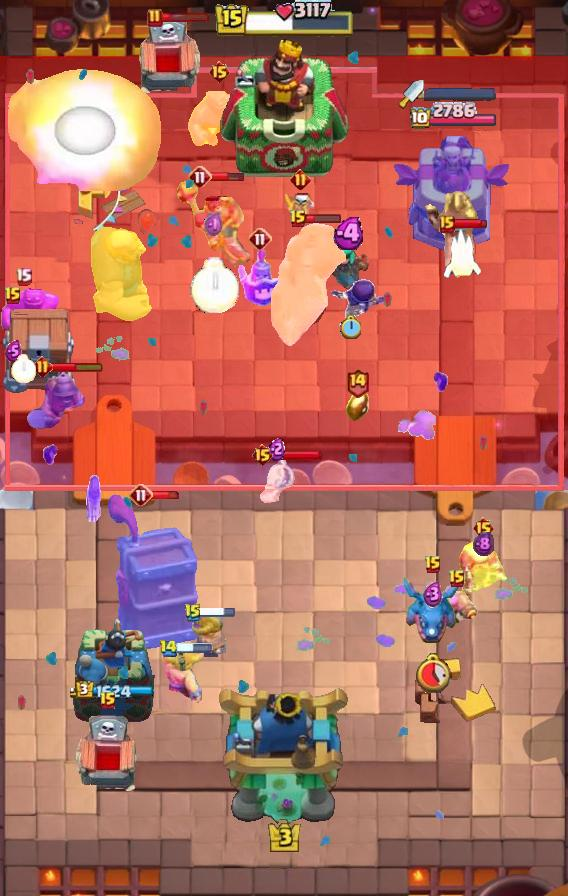balloon: (88, 222, 156, 324)
bandit: (25, 367, 89, 431)
bar: (391, 132, 515, 256)
bat: (440, 227, 482, 281), (255, 453, 297, 505)
bomb: (0, 309, 78, 395)
bomber: (344, 387, 370, 423)
bowler: (456, 530, 510, 600)
clock: (213, 0, 355, 40)
dart-goblin: (107, 493, 201, 653)
electro-spirit: (332, 218, 367, 251), (204, 210, 225, 238), (474, 531, 495, 557), (423, 580, 443, 607), (267, 437, 284, 461), (5, 340, 23, 362)
elixir: (190, 257, 239, 313), (413, 651, 453, 693), (12, 353, 37, 382), (339, 315, 360, 339)
elixir-golem-mid: (133, 16, 203, 102), (73, 714, 143, 800)
emote: (51, 361, 105, 373), (271, 449, 323, 461), (160, 12, 210, 23), (200, 606, 237, 619), (452, 218, 488, 230), (210, 171, 245, 183), (306, 213, 343, 224), (175, 643, 213, 653), (150, 490, 182, 500)
freeze: (174, 181, 254, 275), (419, 191, 481, 273)
goblin: (83, 475, 103, 525)
goblin-ball: (330, 276, 390, 332)
goblin-giant: (162, 647, 206, 703), (190, 610, 226, 657)
graveyard: (402, 574, 464, 646)
heal-spirit: (285, 188, 315, 220)
king-tower: (216, 684, 352, 826), (218, 37, 350, 181)
king-tower-bar: (424, 87, 496, 101)
princess: (238, 249, 282, 309)
queen-tower: (70, 616, 158, 731)
selected: (410, 101, 499, 130), (74, 680, 154, 700)
text: (346, 366, 371, 397), (188, 165, 212, 189), (248, 227, 272, 251), (129, 483, 153, 507), (209, 60, 232, 84), (251, 443, 274, 467), (473, 516, 496, 540), (289, 169, 311, 191), (32, 355, 53, 377), (159, 638, 178, 657), (289, 209, 307, 229), (4, 286, 22, 306), (424, 555, 442, 575), (448, 569, 466, 589), (184, 603, 202, 623), (99, 691, 117, 711), (16, 267, 33, 286), (147, 8, 163, 28), (439, 215, 455, 233)
tombstone: (438, 587, 478, 629)
tornado: (188, 87, 250, 147), (0, 287, 62, 333)
valkyrie: (6, 69, 162, 191)
witch: (328, 243, 372, 293)
wizard: (270, 223, 346, 349)
